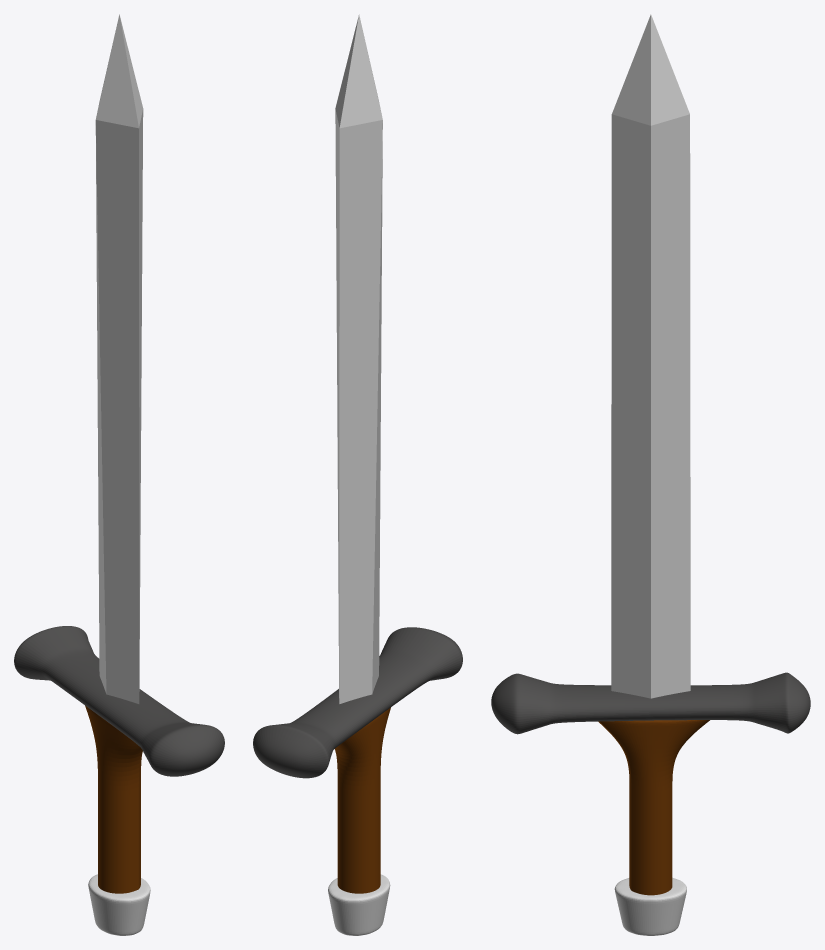
File: Sword.fbx
3 renders of one model, left to right at view 1: azimuth 30°, elevation 25°; view 2: azimuth 150°, elevation 25°; view 3: azimuth 270°, elevation 25°, orthographic.
Parts seen in each view (by area): view 1: Cube.004, Cube.003, Cylinder.003, Cylinder.002; view 2: Cube.004, Cube.003, Cylinder.003, Cylinder.002; view 3: Cube.004, Cube.003, Cylinder.003, Cylinder.002.
Part boxes in pixels (left/top/right/bottom): Cube.004: left=95, top=14, right=143, bottom=703; Cube.003: left=14, top=626, right=224, bottom=776; Cylinder.003: left=85, top=705, right=142, bottom=893; Cylinder.002: left=88, top=874, right=150, bottom=935; Cube.004: left=335, top=14, right=382, bottom=703; Cube.003: left=253, top=627, right=462, bottom=778; Cylinder.003: left=335, top=707, right=390, bottom=893; Cylinder.002: left=328, top=874, right=390, bottom=935; Cube.004: left=611, top=14, right=690, bottom=698; Cube.003: left=491, top=672, right=810, bottom=734; Cylinder.003: left=598, top=720, right=709, bottom=895; Cylinder.002: left=614, top=877, right=686, bottom=935.
Bounding box in the file's own units: 44.04 × 509 × 161.
